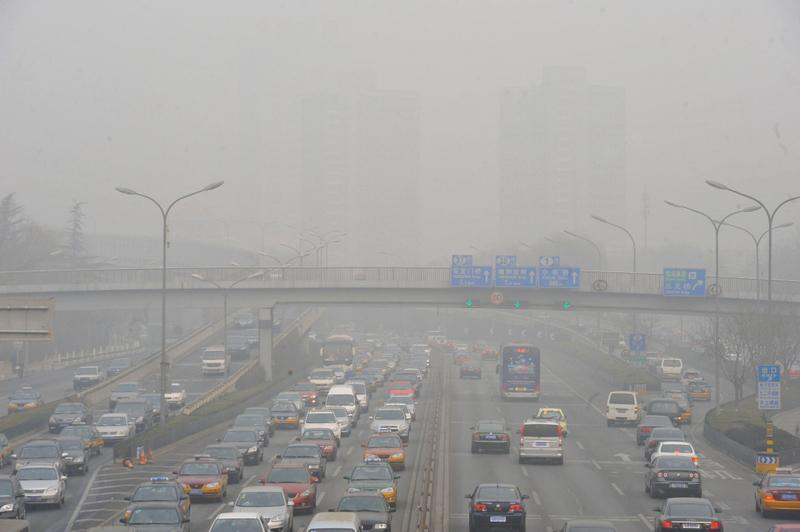bus: (496, 344, 541, 402), (319, 335, 356, 377), (409, 344, 433, 367)
car: (122, 476, 192, 527), (464, 483, 530, 532), (228, 485, 295, 532), (343, 458, 401, 512), (257, 463, 319, 513), (327, 491, 396, 532), (172, 455, 229, 503), (643, 454, 703, 499), (515, 416, 568, 466), (10, 463, 68, 508), (651, 497, 724, 532), (752, 466, 800, 518), (10, 438, 70, 477), (119, 501, 191, 532), (275, 443, 328, 482), (360, 429, 409, 470), (51, 421, 105, 457), (199, 443, 245, 484), (215, 428, 264, 466), (322, 383, 362, 429), (368, 404, 412, 443), (298, 411, 343, 448), (649, 441, 699, 473), (92, 413, 138, 446), (295, 427, 339, 461), (643, 427, 687, 461), (226, 414, 271, 447), (111, 398, 154, 432), (469, 420, 512, 454), (605, 391, 645, 427), (1, 471, 26, 527), (48, 402, 92, 433), (207, 512, 272, 532), (658, 389, 694, 425), (642, 400, 684, 430), (306, 511, 365, 532), (635, 416, 676, 446), (7, 386, 45, 416), (133, 392, 170, 422), (531, 408, 568, 438), (267, 398, 301, 430), (239, 407, 274, 438), (317, 407, 353, 437), (199, 346, 232, 377), (340, 379, 370, 413), (55, 447, 90, 475), (383, 396, 419, 423), (271, 391, 307, 417), (306, 368, 337, 396), (344, 368, 378, 393), (289, 382, 321, 408), (72, 365, 105, 390), (155, 382, 187, 407), (655, 357, 684, 383), (221, 335, 252, 359), (685, 377, 713, 402), (388, 381, 418, 403), (391, 372, 421, 392), (106, 357, 134, 378), (356, 367, 385, 387), (367, 360, 392, 381), (231, 310, 257, 329), (459, 360, 483, 380), (680, 368, 704, 387), (400, 367, 425, 385), (243, 328, 264, 347), (480, 346, 500, 362), (329, 367, 347, 384), (721, 349, 742, 363), (454, 350, 472, 365), (644, 352, 660, 366), (453, 343, 469, 356)
